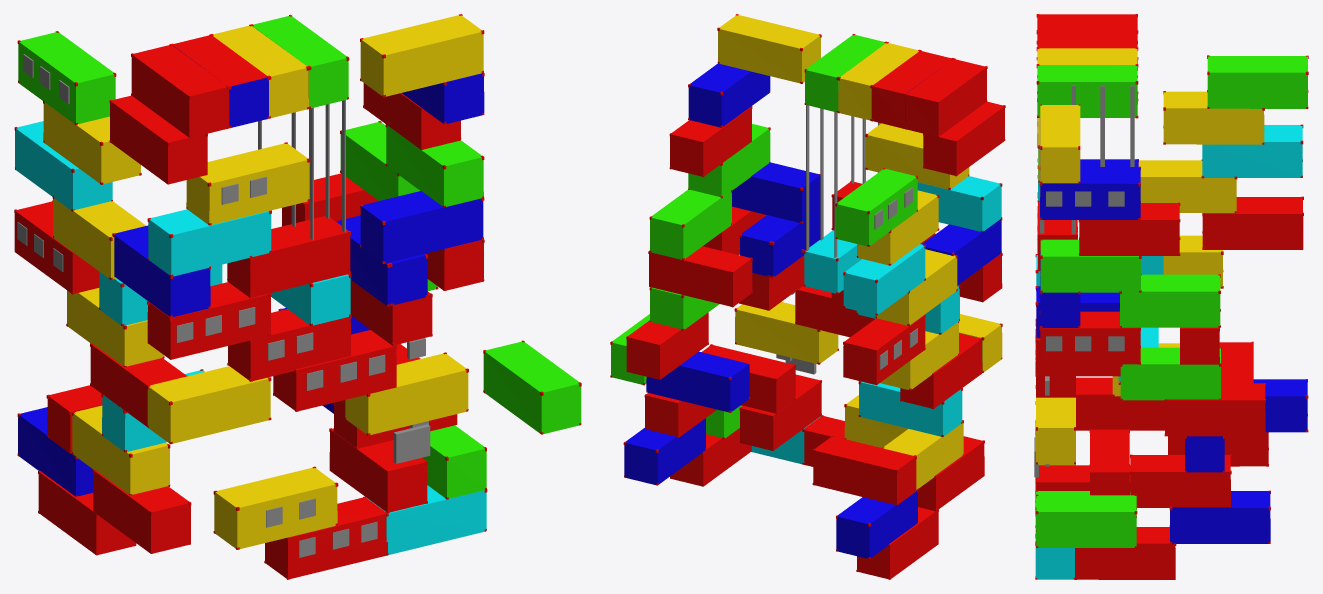
The model's file is ParentPart23FBX.FBX.
The picture shows the model from 3 angles, left to right: view 1: azimuth 30°, elevation 25°; view 2: azimuth 150°, elevation 25°; view 3: azimuth 270°, elevation 25°; orthographic projection. The views are drawn at different scales.
Parts seen in each view (by area): view 1: ParentPart23; view 2: ParentPart23; view 3: ParentPart23.
Boxes of the visible parts, x1,y1,x2,y2 form: ParentPart23: (14, 14, 581, 579); ParentPart23: (610, 14, 1005, 579); ParentPart23: (1034, 14, 1308, 579).
Size of the model in its own units: 8.48 by 5.61 by 9.99.
